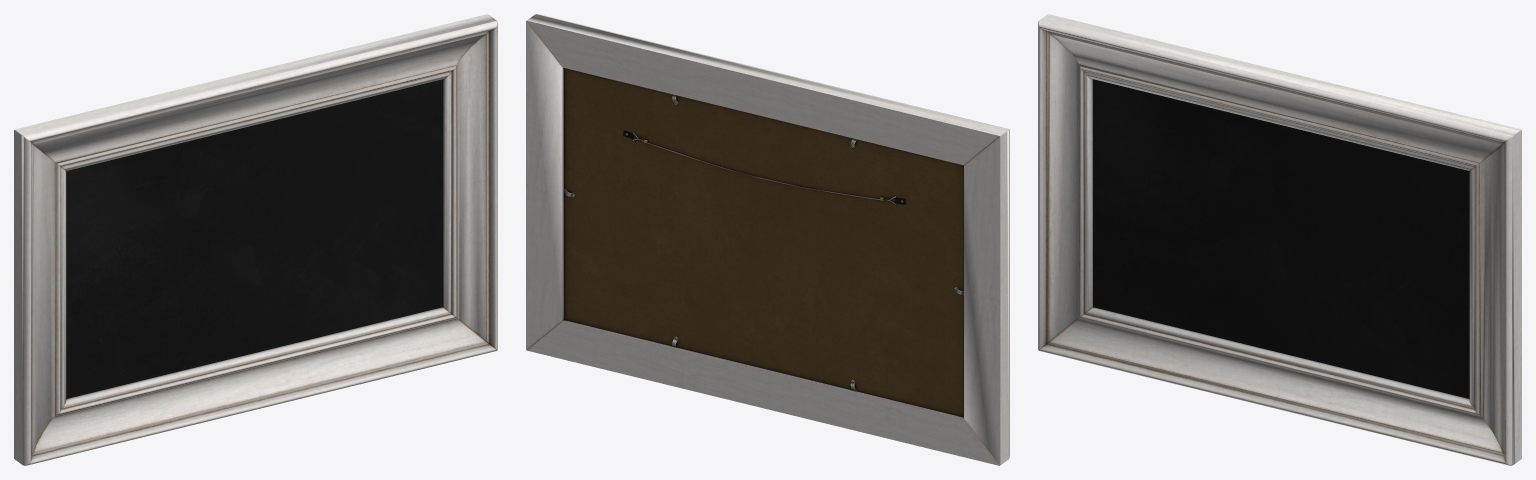
File: hanging_picture_frame_02.glb
3 renders of one model, left to right at view 1: azimuth 30°, elevation 25°; view 2: azimuth 150°, elevation 25°; view 3: azimuth 330°, elevation 25°, orthographic.
Visible parts, largest first — view 1: hanging_picture_frame_02; view 2: hanging_picture_frame_02; view 3: hanging_picture_frame_02.
Part boxes in pixels (<box>): hanging_picture_frame_02: <box>14,14,497,465</box>; hanging_picture_frame_02: <box>526,14,1009,465</box>; hanging_picture_frame_02: <box>1038,14,1521,465</box>.
Size of the model in its own units: 0.7518 by 0.5 by 0.033.
Materials: 3 (3 with a texture image).
